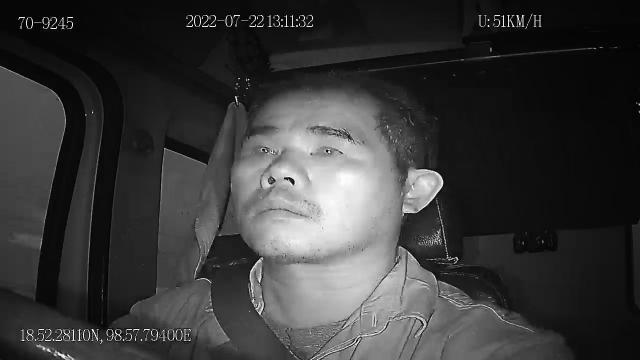SafeDriving: (302, 131, 352, 164), (244, 130, 282, 164)
Seatbelt: (209, 260, 299, 360)
